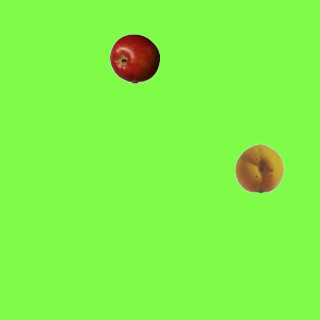Apple Braeburn: (109, 33, 159, 83)
Peach 2: (234, 142, 284, 192)
